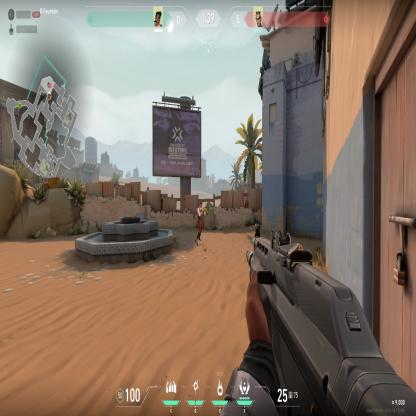enemy: (196, 201, 204, 246)
